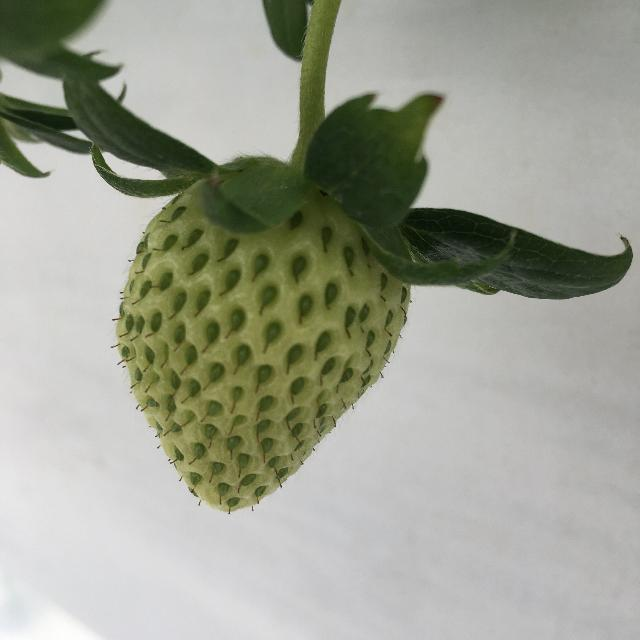Health_25: (121, 168, 425, 516)
